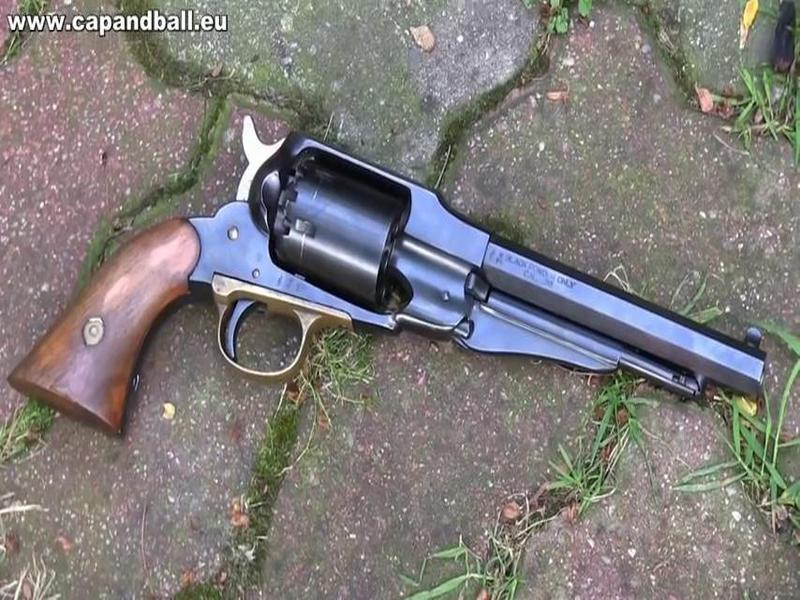Revolver: (15, 120, 775, 465)
